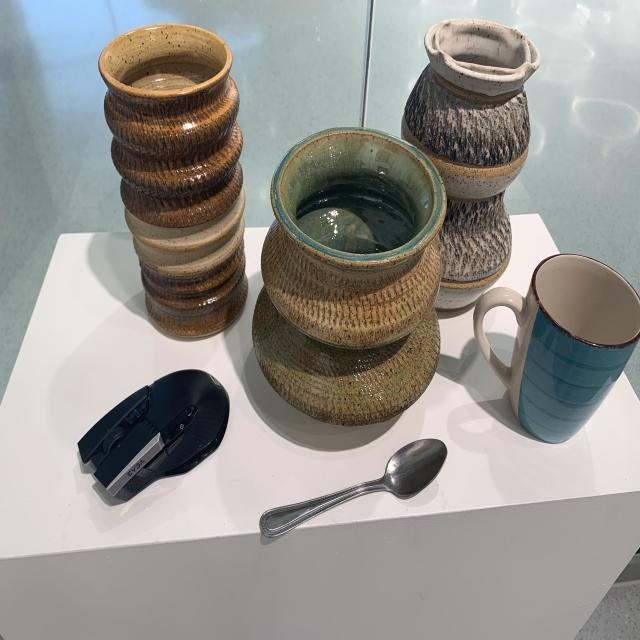Cup: (474, 247, 639, 446)
Mouse: (76, 363, 232, 511)
Spoon: (260, 434, 453, 549)
